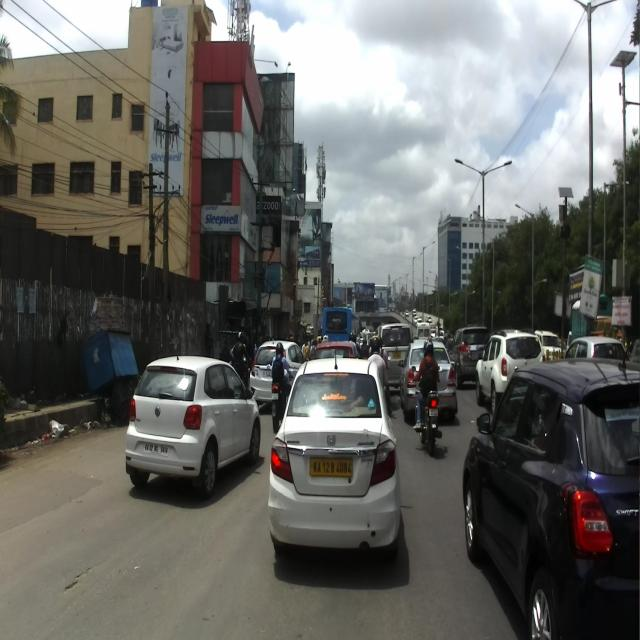car: (462, 357, 638, 639), (266, 344, 401, 555), (124, 342, 260, 500), (474, 328, 546, 414), (397, 338, 457, 418), (249, 338, 309, 408)
motorcycle: (410, 362, 441, 456)
